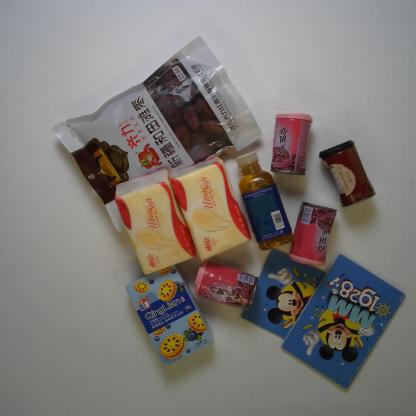Canned Food: (318, 134, 378, 207), (289, 199, 336, 268), (193, 262, 257, 311), (272, 108, 312, 178)
Dessert: (122, 266, 213, 366)
Dried Food: (51, 36, 263, 231)
Drink: (231, 149, 295, 249)
Stationery: (282, 254, 406, 389), (239, 246, 359, 354)
Tissue: (112, 168, 197, 278), (171, 152, 252, 260)
